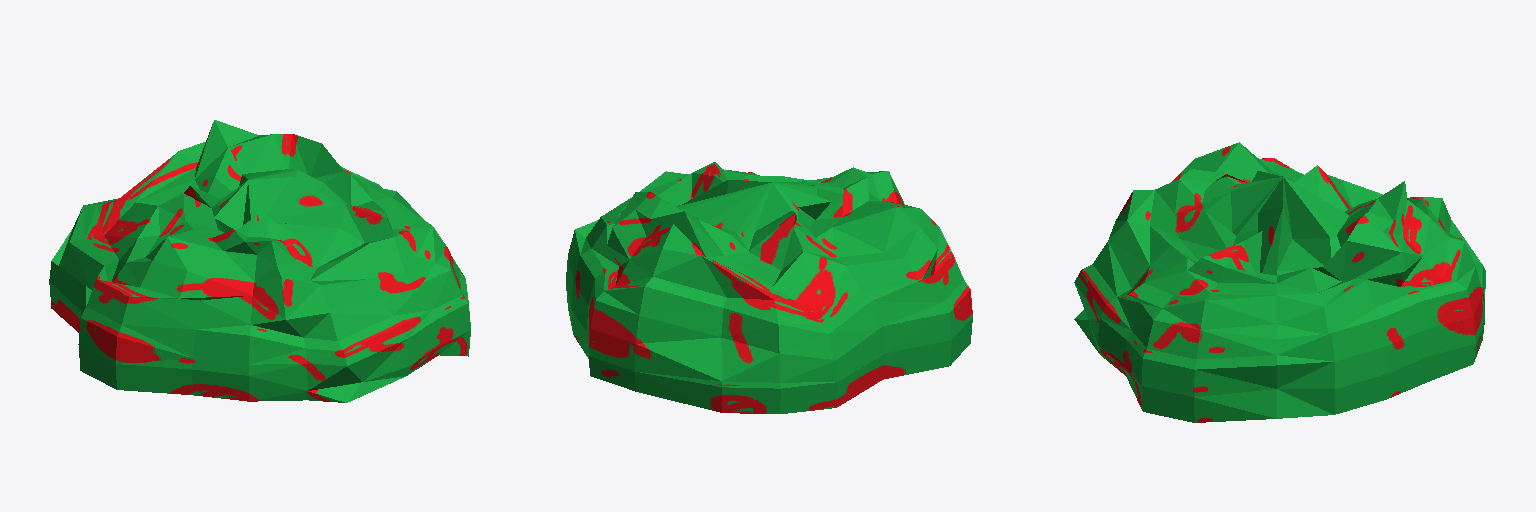
The picture shows the model from 3 angles: view 1: azimuth 30°, elevation 25°; view 2: azimuth 150°, elevation 25°; view 3: azimuth 270°, elevation 25°; orthographic projection.
Visible parts, largest first — view 1: pSphere1; view 2: pSphere1; view 3: pSphere1.
Boxes of the visible parts, <box> form: pSphere1: <box>49,120,470,402</box>; pSphere1: <box>566,162,972,413</box>; pSphere1: <box>1074,142,1485,422</box>.
Bounding box in the file's own units: 5.38 × 2.43 × 5.31.
1 materials, 1 textured.